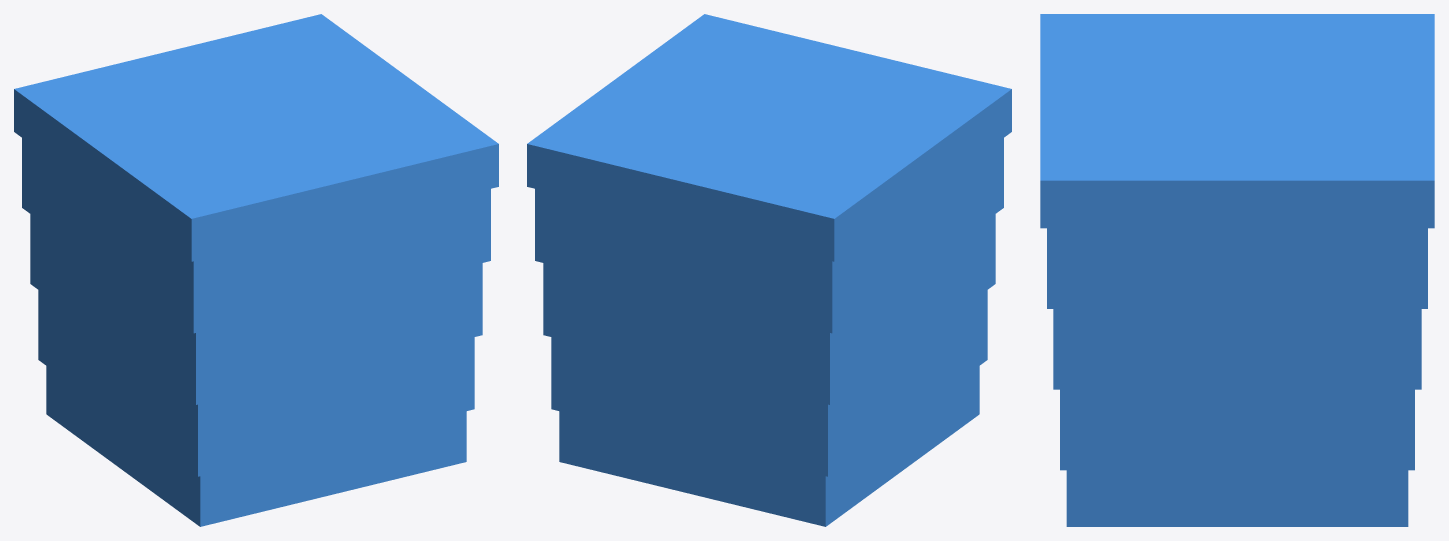
The model's file is placar.obj.
3 renders of one model, left to right at view 1: azimuth 30°, elevation 25°; view 2: azimuth 150°, elevation 25°; view 3: azimuth 270°, elevation 25°, orthographic. The views are drawn at different scales.
Visible parts, largest first — view 1: placar; view 2: placar; view 3: placar.
Part boxes in pixels (x1=…): placar: x1=14, y1=14, x2=498, y2=526; placar: x1=527, y1=14, x2=1011, y2=526; placar: x1=1040, y1=14, x2=1434, y2=526.
Bounding box in the file's own units: 60 × 60 × 60.
Materials: 1 (1 with a texture image).
